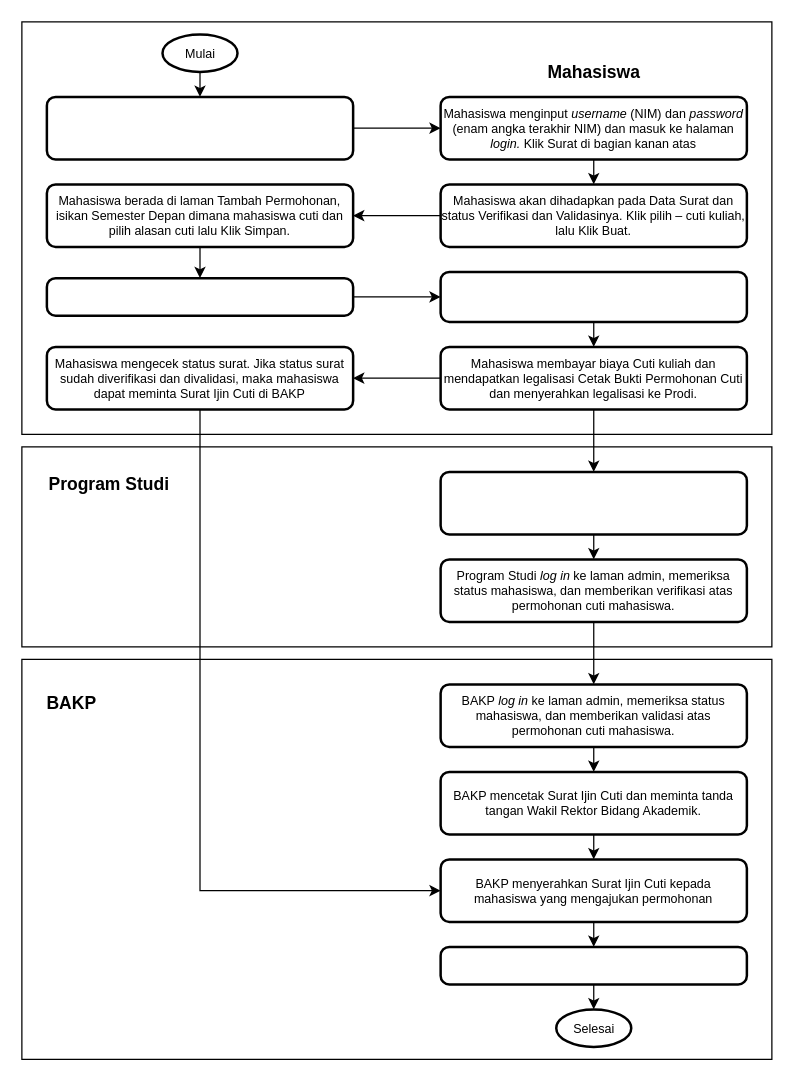
This 794x1081 diagram has some shape labels left out. The box of each missing label's shape, as (x1, y1, x2, y2) in pixels:
Klik Aksi Cetak Bukti Permohonan . Lalu Klik Keluar.: (45, 276, 354, 316)
Mahasiswa ke Subbagian PNBP untuk mengubah tagihan UKT/SPP ke tagihan cuti.: (439, 270, 748, 322)
Mahasiswa membuka laman http://eadministrasi@untirta.ac.id Klik Login: (45, 95, 354, 160)
Mahasiswa Resmi Dinyatakan Cuti: (439, 945, 748, 985)
Prodi menerima Cetak Bukti Permohonan Cuti yang sudah dilegalisasi pihak Bank.: (439, 470, 748, 535)
